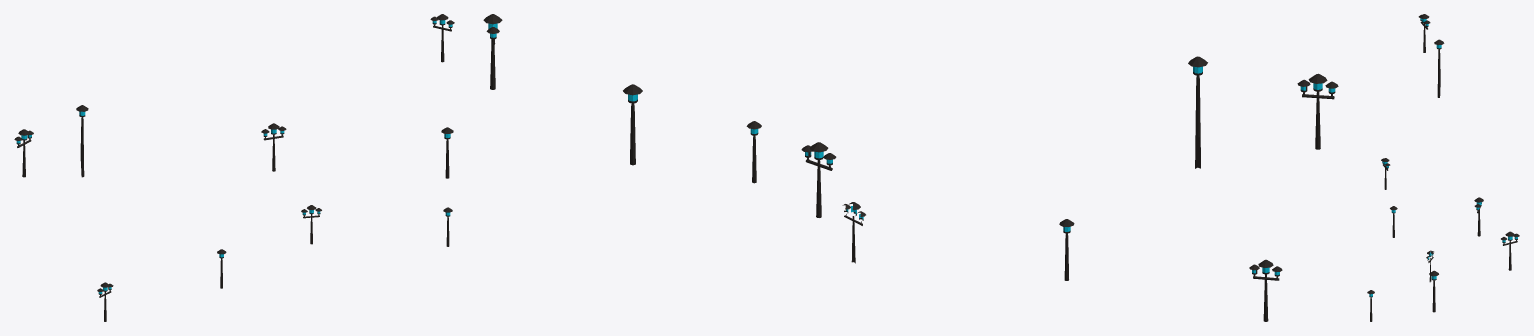
File: Lamps.gltf
3 views of the same model, side by side, from view 1: azimuth 30°, elevation 25°; view 2: azimuth 150°, elevation 25°; view 3: azimuth 270°, elevation 25° (orthographic). The views are drawn at different scales.
Visible parts, largest first — view 1: lamp join; view 2: lamp join; view 3: lamp join.
Boxes of the visible parts, x1,y1,x2,y2 form: lamp join: (14,14,454,321); lamp join: (483,14,1338,321); lamp join: (1367,14,1519,321).
Size of the model in its own units: 39.95 by 14.74 by 13.3.
1 material, 1 textured.
